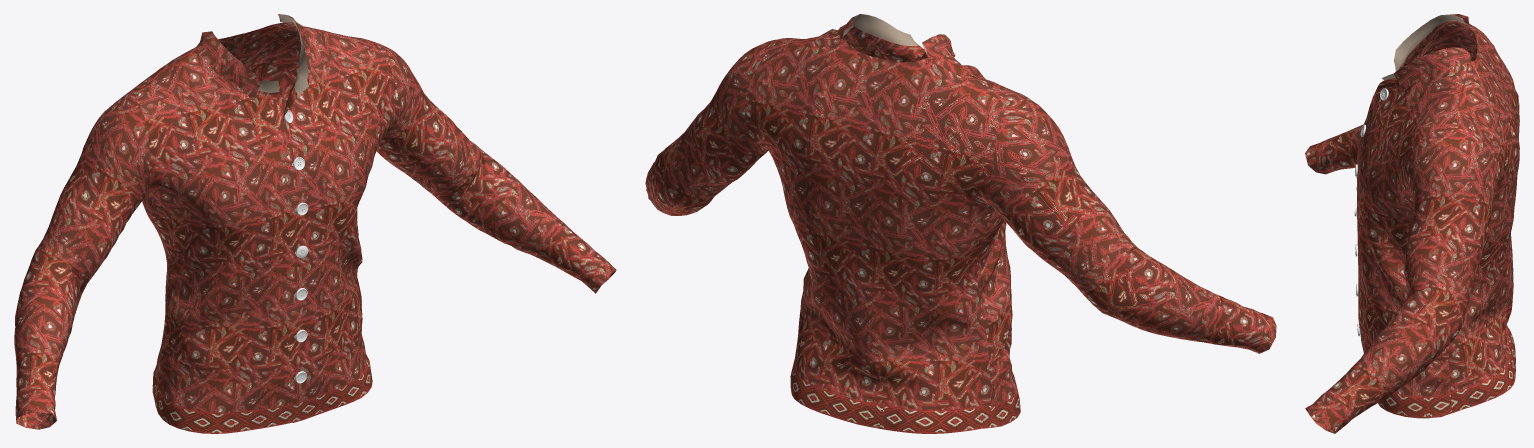
The model's file is Baju_Panjang.fbx.
The picture shows the model from 3 angles, left to right: view 1: azimuth 30°, elevation 25°; view 2: azimuth 150°, elevation 25°; view 3: azimuth 270°, elevation 25°; orthographic projection. The views are drawn at different scales.
Visible parts, largest first — view 1: Baju_Panjang.001; view 2: Baju_Panjang.001; view 3: Baju_Panjang.001.
Part boxes in pixels (box(x1,y1,x2,y2)): Baju_Panjang.001: box(14, 14, 616, 433); Baju_Panjang.001: box(645, 14, 1276, 433); Baju_Panjang.001: box(1305, 14, 1519, 433).
Bounding box in the file's own units: 1059 × 620 × 349.
Materials: 9 (7 with a texture image).
